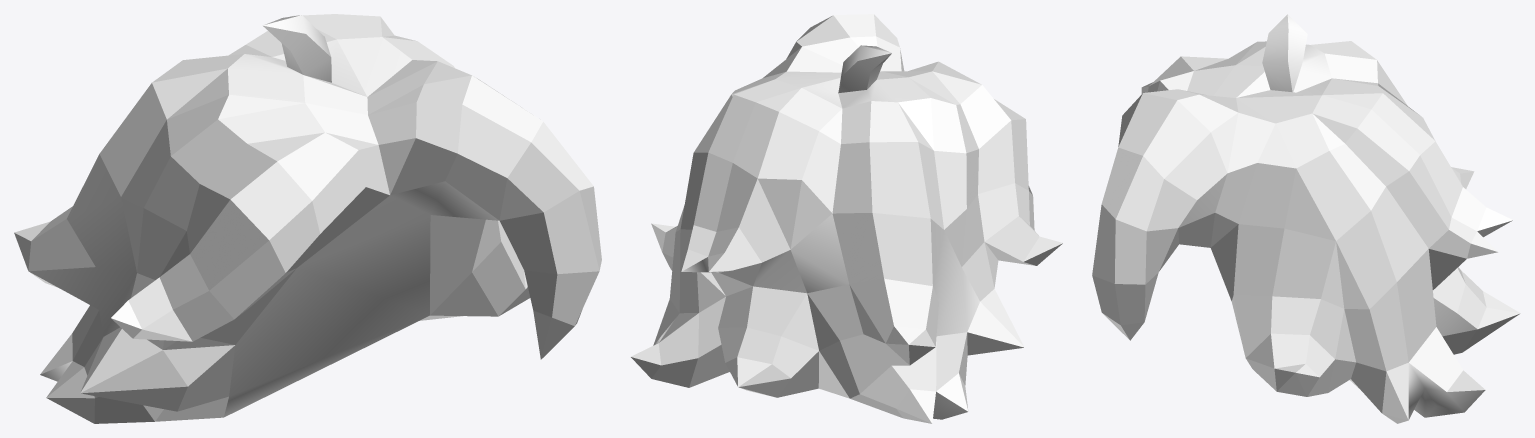
Rendered from SM_Chr_Attach_Hair_M_04.fbx.
The picture shows the model from 3 angles, left to right: view 1: azimuth 30°, elevation 25°; view 2: azimuth 150°, elevation 25°; view 3: azimuth 270°, elevation 25°; orthographic projection. The views are drawn at different scales.
Parts seen in each view (by area): view 1: SM_Chr_Attach_Hair_M_04; view 2: SM_Chr_Attach_Hair_M_04; view 3: SM_Chr_Attach_Hair_M_04.
Boxes of the visible parts, x1=… form: SM_Chr_Attach_Hair_M_04: x1=14, y1=14, x2=601, y2=423; SM_Chr_Attach_Hair_M_04: x1=631, y1=14, x2=1062, y2=423; SM_Chr_Attach_Hair_M_04: x1=1092, y1=14, x2=1520, y2=423.
Bounding box in the file's own units: 42.21 × 33.63 × 38.99.
